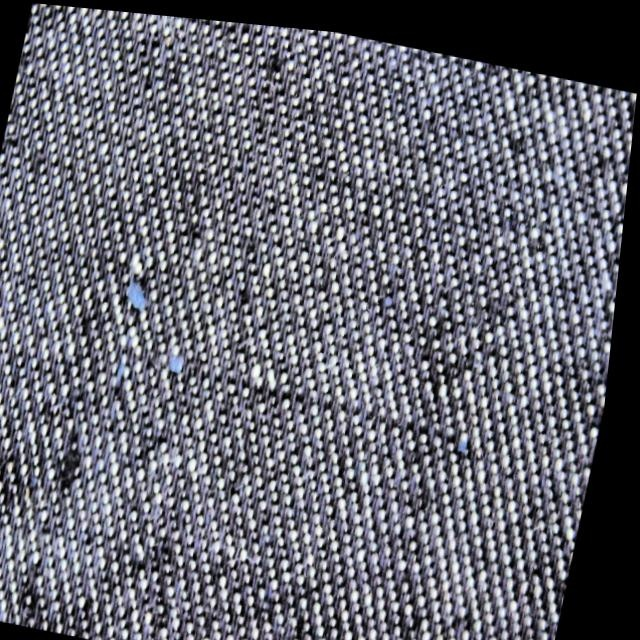Hole: (145, 326, 206, 407), (98, 344, 149, 420)
